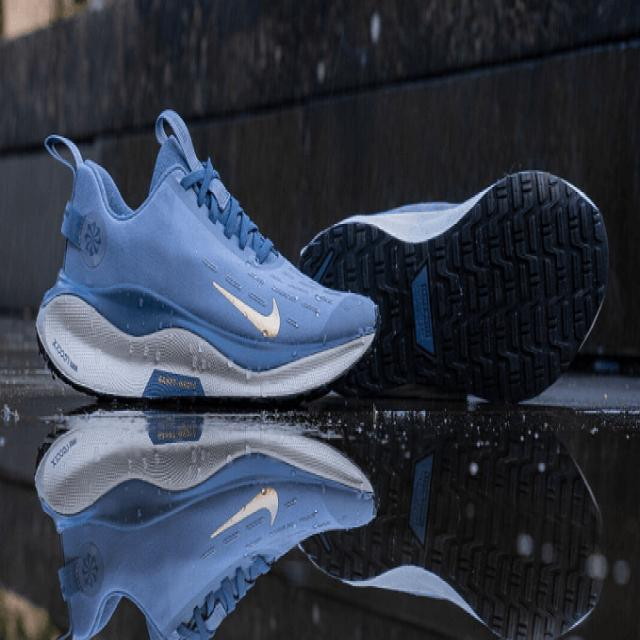nike: (210, 478, 280, 547), (210, 279, 281, 340)
